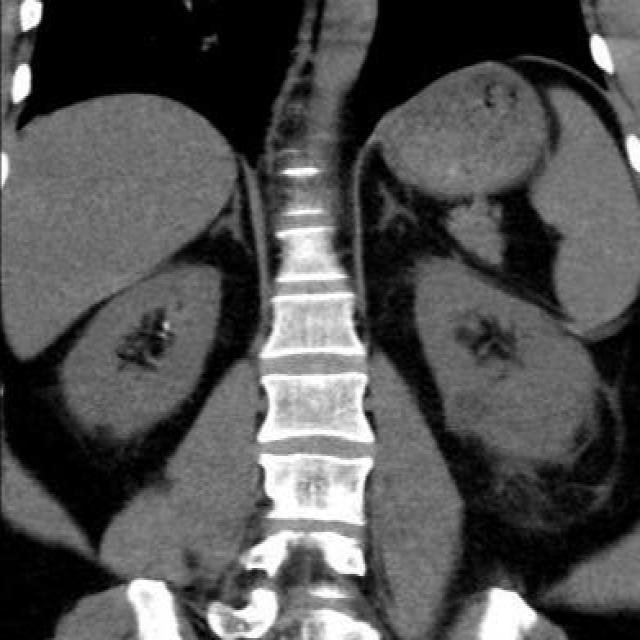Tas_Var: (161, 318, 173, 334)
